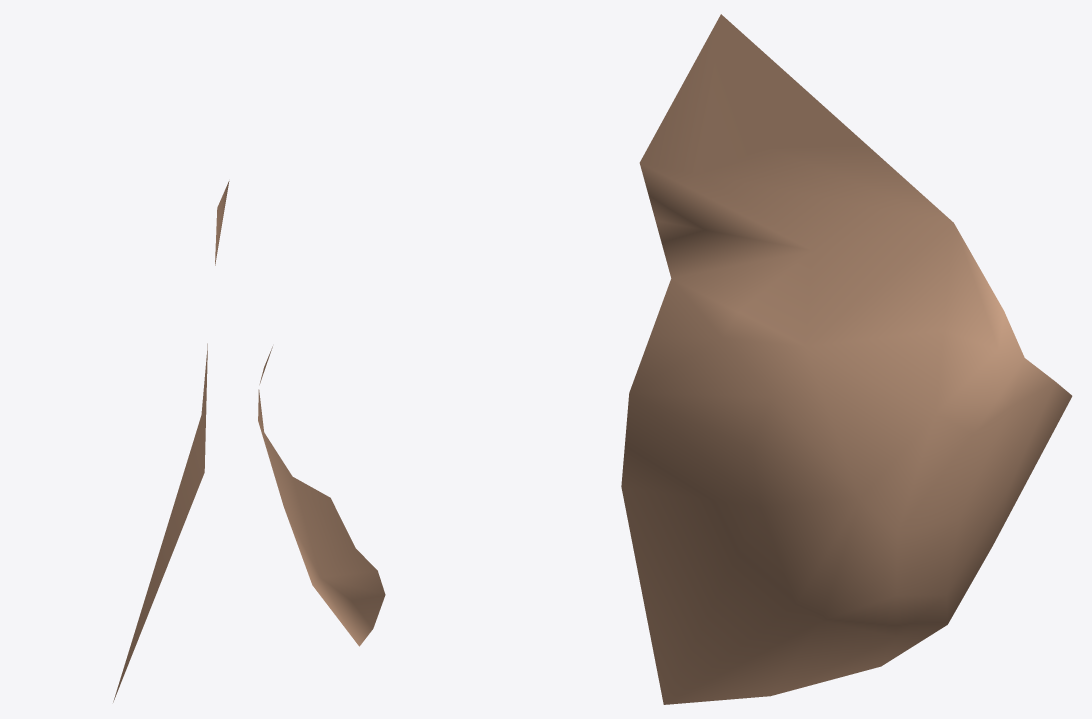
The model's file is tragus-l.glb.
The picture shows the model from 3 angles, left to right: view 1: azimuth 30°, elevation 25°; view 2: azimuth 150°, elevation 25°; view 3: azimuth 270°, elevation 25°; orthographic projection. The views are drawn at different scales.
Visible parts, largest first — view 1: Tragus.l; view 2: Tragus.l; view 3: Tragus.l.
Boxes of the visible parts, left/top/right/bottom form: Tragus.l: left=113, top=181, right=229, bottom=702; Tragus.l: left=258, top=346, right=385, bottom=646; Tragus.l: left=621, top=14, right=1072, bottom=704.
Bounding box in the file's own units: 0.00624 × 0.0207 × 0.0112.
